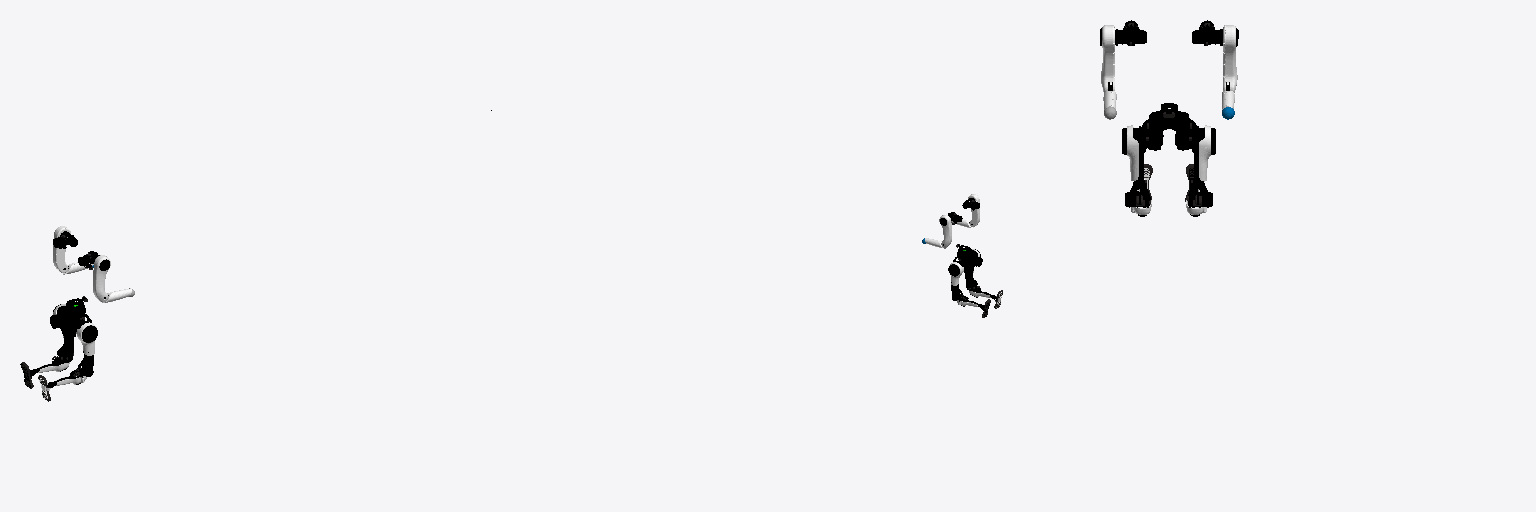
URDF robot description (WuKongIV):
<?xml version="1.0" encoding="utf-8"?>
<robot name="WuKongIV">
  <link name="SACRUM">
    <inertial>
      <mass value="0" />
      <inertia ixx="0" ixy="0" ixz="0" iyy="0" iyz="0" izz="0" />
    </inertial>
    <visual>
      <geometry>
        <mesh filename="../meshes_dae/SACRUM.dae" />
      </geometry>
    </visual>
  </link>

  <link name="BASE_INER">
    <inertial>
      <origin xyz="0.00096078 -2.1928E-05 -0.025162" />
      <mass value="3.2422" />
      <inertia ixx="0.01008488" ixy="-8.7E-07" ixz="-0.00016364" iyy="0.00548956" iyz="-2.8E-07" izz="0.00997073" />
    </inertial>
  </link>

  <joint name="Base2Iner" type="fixed">
    <parent link="SACRUM" />
    <child link="BASE_INER" />
  </joint>

  <link name="TORSO">
    <inertial>
      <origin xyz="0.002727 0.00010666 0.18215" />
      <mass value="14.544" />
      <inertia ixx="0.44797196" ixy="-0.00008178" ixz="-0.00554868" iyy="0.34075748" iyz="0.00021549" izz="0.17876604" />
    </inertial>
    <visual>
      <geometry>
        <mesh filename="../meshes_dae/TORSO.dae" />
      </geometry>
    </visual>
    <collision>
      <origin xyz="0 0 0.15" />
      <geometry>
        <box size="0.2 0.31 0.48"/>
      </geometry>
    </collision>
  </link>

  <joint name="Waist" type="revolute">
    <origin xyz="0.00010001 0 0.03751" />
    <parent link="SACRUM" />
    <child link="TORSO" />
    <axis xyz="0 0 1" />
    <limit lower="-0.698" upper="0.698" effort="84" velocity="7.85" />
    <dynamics damping="0" friction="0" />
  </joint>

  <link name="SCAPULA_R">
    <inertial>
      <origin xyz="-0.017297 -0.00031922 -0.0027747" />
      <mass value="1.0094" />
      <inertia ixx="0.00072781" ixy="0.00000511" ixz="0.00004844" iyy="0.00090651" iyz="0.0000138" izz="0.00084392" />
    </inertial>
    <visual>
      <geometry>
        <mesh filename="../meshes_dae/SCAPULA_R.dae" />
      </geometry>
    </visual>
  </link>

  <joint name="Shoulder_Z_R" type="revolute">
    <origin xyz="0 -0.1725 0.35275" />
    <parent link="TORSO" />
    <child link="SCAPULA_R" />
    <axis xyz="0 0 -1" />
    <limit lower="-0.366" upper="0.366" effort="100" velocity="4.1" />
    <dynamics damping="0" friction="0" />
  </joint>

  <link name="SHOULDER_R">
    <inertial>
      <origin xyz="-0.0030034 0.022918 0.00033814" />
      <mass value="0.95868" />
      <inertia ixx="0.00071081" ixy="-0.00006653" ixz="1.371E-06" iyy="0.00069481" iyz="0.00000687" izz="0.00077233" />
    </inertial>
    <visual>
      <geometry>
        <mesh filename="../meshes_dae/SHOULDER_R.dae" />
      </geometry>
    </visual>
  </link>

  <joint name="Shoulder_X_R" type="revolute">
    <origin xyz="0.05725 0 0" />
    <parent link="SCAPULA_R" />
    <child link="SHOULDER_R" />
    <axis xyz="-1 0 0" />
    <limit lower="-0.366" upper="0.366" effort="100" velocity="4.1" />
    <dynamics damping="0" friction="0" />
  </joint>

  <link name="UPPERARM_R">
    <inertial>
      <origin xyz="-0.0063123 0.020504 -0.048583" />
      <mass value="1.7239" />
      <inertia ixx="0.01622246" ixy="-0.00031829" ixz="-0.00100646" iyy="0.01499852" iyz="-0.00172217" izz="0.00352944" />
    </inertial>
    <visual>
      <geometry>
        <mesh filename="../meshes_dae/UPPERARM_R.dae" />
      </geometry>
    </visual>
    <collision>
      <origin xyz="-0.01 -0.005 -0.13" />
      <geometry>
        <box size="0.05 0.05 0.26" />
      </geometry>
    </collision> 
    <collision>
      <origin xyz="0 -0.01 0" rpy="1.57 0 0" />
      <geometry>
        <cylinder length="0.06" radius="0.05"/>
      </geometry>
    </collision> 
  </link>

  <joint name="Shoulder_Y_R" type="revolute">
    <origin xyz="0 -0.09525 0" />
    <parent link="SHOULDER_R" />
    <child link="UPPERARM_R" />
    <axis xyz="0 1 0" />
    <limit lower="-1.788" upper="0.714" effort="28" velocity="14.65" />
    <dynamics damping="0" friction="0" />
  </joint>

  <link name="FOREARM_R">
    <inertial>
      <origin xyz="0.10118 -0.00089188 -0.021779" />
      <mass value="0.37113" />
      <inertia ixx="0.00042911" ixy="0.00003147" ixz="0.00090579" iyy="0.00609032" iyz="-0.00000761" izz="0.00587061" />
    </inertial>
    <visual>
      <geometry>
        <mesh filename="../meshes_dae/FOREARM_R.dae" />
      </geometry>
    </visual>
  </link>

  <joint name="Elbow_R" type="revolute">
    <origin xyz="0 0 -0.25" />
    <parent link="UPPERARM_R" />
    <child link="FOREARM_R" />
    <axis xyz="0 1 0" />
    <limit lower="-1.274" upper="0.923" effort="28" velocity="14.65" />
    <dynamics damping="0" friction="0" />
  </joint>

  <link name="HAND_R">
    <inertial>
      <origin xyz="0.020883 0 -0.00068565" />
      <mass value="0.085665" />
      <inertia ixx="3.7989E-05" ixy="0" ixz="-2E-07" iyy="3.1765E-05" iyz="0" izz="3.1772E-05" />
    </inertial>
    <visual>
      <geometry>
        <sphere radius="0.03"/>
      </geometry>
      </visual>
    <collision>
      <origin xyz="0.01 0 0" />
      <geometry>
        <sphere radius="0.03"/>
      </geometry>
    </collision>
  </link>

  <joint name="Wrist_R" type="fixed">
    <origin xyz="0.22429 0 -0.0252" />
    <parent link="FOREARM_R" />
    <child link="HAND_R" />
    <dynamics damping="0" friction="0" />
  </joint>

  <link name="SCAPULA_L">
    <inertial>
      <origin xyz="-0.017301 0.00030058 -0.0027747" />
      <mass value="1.0094" />
      <inertia ixx="0.00072792" ixy="-5.71E-06" ixz="0.0000483" iyy="0.00090637" iyz="0.00001413" izz="0.0008439" />
    </inertial>
    <visual>
      <geometry>
        <mesh filename="../meshes_dae/SCAPULA_L.dae" />
      </geometry>
    </visual>
  </link>

  <joint name="Shoulder_Z_L" type="revolute">
    <origin xyz="0 0.1725 0.35275" />
    <parent link="TORSO" />
    <child link="SCAPULA_L" />
    <axis xyz="0 0 1" />
    <limit lower="-0.366" upper="0.366" effort="100" velocity="4.1" />
    <dynamics damping="0" friction="0" />
  </joint>

  <link name="SHOULDER_L">
    <inertial>
      <origin xyz="-0.0030034 -0.022922 0.00031317" />
      <mass value="0.95868" />
      <inertia ixx="0.00071064" ixy="0.00006639" ixz="0.00001402" iyy="0.00069483" iyz="-0.00000745" izz="0.00077215" />
    </inertial>
    <visual>
      <geometry>
        <mesh filename="../meshes_dae/SHOULDER_L.dae" />
      </geometry>
    </visual>
  </link>

  <joint name="Shoulder_X_L" type="revolute">
    <origin xyz="0.05725 0 0" />
    <parent link="SCAPULA_L" />
    <child link="SHOULDER_L" />
    <axis xyz="1 0 0" />
    <limit lower="-0.366" upper="0.366" effort="100" velocity="4.1" />
    <dynamics damping="0" friction="0" />
  </joint>

  <link name="UPPERARM_L">
    <inertial>
      <origin xyz="-0.0056932 -0.020527 -0.048691" />
      <mass value="1.7224" />
      <inertia ixx="0.01539894" ixy="-1.954E-05" ixz="-0.00132865" iyy="0.01452480" iyz="0.00199437" izz="0.00387488" />
    </inertial>
    <visual>
      <geometry>
        <mesh filename="../meshes_dae/UPPERARM_L.dae" />
      </geometry>
    </visual>
    <collision>
      <origin xyz="-0.01 0.005 -0.13" />
      <geometry>
        <box size="0.05 0.05 0.26" />
      </geometry>
    </collision> 
    <collision>
      <origin xyz="0 0.01 0" rpy="1.57 0 0" />
      <geometry>
        <cylinder length="0.06" radius="0.05"/>
      </geometry>
    </collision> 
  </link> 

  <joint name="Shoulder_Y_L" type="revolute">
    <origin xyz="0 0.09525 0" />
    <parent link="SHOULDER_L" />
    <child link="UPPERARM_L" />
    <axis xyz="0 1 0" />
    <limit lower="-1.788" upper="0.714" effort="28" velocity="14.65" />
    <dynamics damping="0" friction="0" />
  </joint>

  <link name="FOREARM_L">
    <inertial>
      <origin xyz="0.10119 0.00088935 -0.02178" />
      <mass value="0.37117" />
      <inertia ixx="0.00025279" ixy="0.00000211" ixz="8.779E-05" iyy="0.00211374" iyz="4.4E-07" izz="0.00206977" />
    </inertial>
    <visual>
      <geometry>
        <mesh filename="../meshes_dae/FOREARM_L.dae" />
      </geometry>
    </visual>
  </link>

  <joint name="Elbow_L" type="revolute">
    <origin xyz="0 0 -0.25" />
    <parent link="UPPERARM_L" />
    <child link="FOREARM_L" />
    <axis xyz="0 1 0" />
    <limit lower="-1.274" upper="0.923" effort="28" velocity="14.65" />
    <dynamics damping="0" friction="0" />
  </joint>

  <link name="HAND_L">
    <inertial>
      <origin xyz="0.021882 4.6532E-07 -0.00071846" />
      <mass value="0.085665" />
      <inertia ixx="3.7989E-05" ixy="0" ixz="-2E-07" iyy="3.1765E-05" iyz="0" izz="3.1772E-05" />
    </inertial>
    <visual>
      <geometry>
        <sphere radius="0.03"/>
      </geometry>
    </visual>
    <collision>
      <origin xyz="0.01 0 0" />
      <geometry>
        <sphere radius="0.03"/>
      </geometry>
    </collision>
  </link>

  <joint name="Wrist_L" type="fixed">
    <origin xyz="0.2243 0 -0.02505" />
    <parent link="FOREARM_L" />
    <child link="HAND_L" />
    <dynamics damping="0" friction="0" />
  </joint>

  <link name="ILIUM_R">
    <inertial>
      <origin xyz="-0.075151 -0.029746 0.011661" />
      <mass value="1.6695" />
      <inertia ixx="0.0031277" ixy="-0.00030585" ixz="-0.00138371" iyy="0.00641746" iyz="-0.00027709" izz="0.00540224" />
    </inertial>
    <visual>
      <geometry>
        <mesh filename="../meshes_dae/ILIUM_R.dae" />
      </geometry>
    </visual>
    <collision>
      <origin xyz="-0.129 -0.032 0" rpy="0 1.57 0" />
      <geometry>
        <cylinder length="0.02" radius="0.046"/>
      </geometry>
    </collision>
  </link>

  <joint name="Hip_Z_R" type="revolute">
    <origin xyz="0.00010001 -0.045 -0.15049" />
    <parent link="SACRUM" />
    <child link="ILIUM_R" />
    <axis xyz="0 0 -1" />
    <limit lower="-0.174" upper="0.174" effort="84" velocity="7.85" />
    <dynamics damping="0" friction="0" />
  </joint>

  <link name="ISCHIUM_R">
    <inertial>
      <origin xyz="-0.0061454 0.0083018 -0.00041435" />
      <mass value="1.489" />
      <inertia ixx="0.00123482" ixy="-8.78E-05" ixz="-0.00003823" iyy="0.00216773" iyz="-7.68E-06" izz="0.00170290" />
    </inertial>
    <visual>
      <geometry>
        <mesh filename="../meshes_dae/ISCHIUM_R.dae" />
      </geometry>
    </visual>
  </link>

  <joint name="Hip_X_R" type="revolute">
    <origin xyz="0 -0.0325 0" />
    <parent link="ILIUM_R" />
    <child link="ISCHIUM_R" />
    <axis xyz="-1 0 0" />
    <limit lower="-0.349" upper="0.349" effort="84" velocity="7.85" />
    <dynamics damping="0" friction="0" />
  </joint>

  <link name="THIGH_R">
    <inertial>
      <origin xyz="0.0047566 -0.027902 -0.039381" />
      <mass value="3.5319" />
      <inertia ixx="0.02861456" ixy="-0.00013987" ixz="0.00177396" iyy="0.02934292" iyz="0.00138919" izz="0.00585688" />
    </inertial>
    <visual>
      <geometry>
        <mesh filename="../meshes_dae/THIGH_R.dae" />
      </geometry>
    </visual>
    <collision>
      <origin xyz="0 -0.02 -0.132" />
      <geometry>
        <cylinder length="0.30" radius="0.05"/>
      </geometry>
    </collision>
    <collision>
      <origin xyz="0 -0.04 -0.01" rpy="1.57 0 0" />
      <geometry>
        <cylinder length="0.10" radius="0.066"/>
      </geometry>
    </collision>
  </link>

  <joint name="Hip_Y_R" type="revolute">
    <origin xyz="0 -0.0432 0" />
    <parent link="ISCHIUM_R" />
    <child link="THIGH_R" />
    <axis xyz="0 1 0" />
    <limit lower="-2.207" upper="0.462" effort="84" velocity="7.85" />
    <dynamics damping="0" friction="0" />
  </joint>

  <link name="SHANK_R">
    <inertial>
      <origin xyz="0.010628 -0.0095812 -0.051247" />
      <mass value="2.7397" />
      <inertia ixx="0.01492817" ixy="-0.00027923" ixz="0.00061306" iyy="0.01461087" iyz="0.00072764" izz="0.00321124" />
    </inertial>
    <visual>
      <geometry>
        <mesh filename="../meshes_dae/SHANK_R.dae" />
      </geometry>
    </visual>
    <collision>
      <origin xyz="0.02 0 -0.16" rpy="0 0.3 0" />
      <geometry>
        <cylinder length="0.18" radius="0.02"/>
      </geometry>
    </collision>
    <collision>
      <origin xyz="0.05 0 -0.04" rpy="0 1.57 0" />
      <geometry>
        <cylinder length="0.05" radius="0.036"/>
      </geometry>
    </collision>
    <collision>
      <origin xyz="0.05 0 -0.06" rpy="0 1.57 0" />
      <geometry>
        <cylinder length="0.05" radius="0.036"/>
      </geometry>
    </collision>
  </link>

  <joint name="Knee_R" type="revolute">
    <origin xyz="0 0 -0.3" />
    <parent link="THIGH_R" />
    <child link="SHANK_R" />
    <axis xyz="0 1 0" />
    <limit lower="0.071" upper="2.617" effort="180" velocity="12" />
    <dynamics damping="0" friction="0" />
  </joint>

  <link name="ASTRAGALUS_R">
    <inertial>
      <origin xyz="-0.014376 -3.454E-05 0.0057672" />
      <mass value="0.068615" />
      <inertia ixx="8.86E-06" ixy="-2E-08" ixz="5.49E-07" iyy="0.00002951" iyz="4E-08" izz="0.00002574" />
    </inertial>
    <visual>
      <geometry>
        <mesh filename="../meshes_dae/ASTRAGALUS.dae" />
      </geometry>
    </visual>
  </link>

  <joint name="Ankle_Y_R" type="revolute">
    <origin xyz="0 0 -0.3" />
    <parent link="SHANK_R" />
    <child link="ASTRAGALUS_R" />
    <axis xyz="0 1 0" />
    <limit lower="-1.134" upper="0.261" effort="28" velocity="14.65" />
    <dynamics damping="0" friction="0" />
  </joint>

  <link name="FOOT_R">
    <inertial>
      <origin xyz="-5.1084E-10 -0.0010736 -0.024732" />
      <mass value="0.23297" />
      <inertia ixx="0.00010981" ixy="-2.5096E-10" ixz="8.0022E-13" iyy="0.00058824" iyz="3.92E-06" izz="0.00065893" />
    </inertial>
    <visual>
      <geometry>
        <mesh filename="../meshes_dae/FOOT_R.dae" />
      </geometry>
    </visual>
  </link>

  <joint name="Ankle_X_R" type="revolute">
    <parent link="ASTRAGALUS_R" />
    <child link="FOOT_R" />
    <axis xyz="-1 0 0" />
    <limit lower="-0.222" upper="0.222" effort="28" velocity="14.65" />
    <dynamics damping="0" friction="0" />
  </joint>

  <link name="TIPTOE_R">
    <inertial>
      <origin xyz="0.001 0.001 -0.0052715" />
      <mass value="0.19293" />
      <inertia ixx="0.00012184" ixy="0" ixz="0" iyy="0.00079695" iyz="0" izz="0.00090791" />
    </inertial>
    <visual>
      <geometry>
        <mesh filename="../meshes_dae/TIPTOE.dae" />
      </geometry>
    </visual>
    <collision>
      <origin xyz="0 0 0.005"/>
      <geometry>
        <box size="0.18 0.08 0.01"/>
      </geometry>
    </collision>
  </link>

  <joint name="Tiptoe_Z_R" type="fixed">
    <origin xyz="0 0 -0.031" />
    <parent link="FOOT_R" />
    <child link="TIPTOE_R" />
  </joint>

  <link name="ILIUM_L">
    <inertial>
      <origin xyz="-0.075166 0.029681 0.011765" />
      <mass value="1.6675" />
      <inertia ixx="0.00312613" ixy="0.0003" ixz="-0.0013813" iyy="0.00641573" iyz="0.00027496" izz="0.00540253" />
    </inertial>
    <visual>
      <geometry>
        <mesh filename="../meshes_dae/ILIUM_L.dae" />
      </geometry>
    </visual>
    <collision>
      <origin xyz="-0.129 0.032 0" rpy="0 1.57 0" />
      <geometry>
        <cylinder length="0.02" radius="0.046"/>
      </geometry>
    </collision>
  </link>

  <joint name="Hip_Z_L" type="revolute">
    <origin xyz="0.00010001 0.045 -0.15049" />
    <parent link="SACRUM" />
    <child link="ILIUM_L" />
    <axis xyz="0 0 1" />
    <limit lower="-0.174" upper="0.174" effort="84" velocity="7.85" />
    <dynamics damping="0" friction="0" />
  </joint>

  <link name="ISCHIUM_L">
    <inertial>
      <origin xyz="-0.0061396 -0.0083018 -0.00049822" />
      <mass value="1.489" />
      <inertia ixx="0.00123473" ixy="0.00008691" ixz="-0.00003659" iyy="0.00216555" iyz="0.00000356" izz="0.00170081" />
    </inertial>
    <visual>
      <geometry>
        <mesh filename="../meshes_dae/ISCHIUM_L.dae" />
      </geometry>
    </visual>
  </link>

  <joint name="Hip_X_L" type="revolute">
    <origin xyz="0 0.0325 0" />
    <parent link="ILIUM_L" />
    <child link="ISCHIUM_L" />
    <axis xyz="1 0 0" />
    <limit lower="-0.349" upper="0.349" effort="84" velocity="7.85" />
    <dynamics damping="0" friction="0" />
  </joint>

  <link name="THIGH_L">
    <inertial>
      <origin xyz="0.0048204 0.029872 -0.039658" />
      <mass value="3.5416" />
      <inertia ixx="0.02873630" ixy="0.00014184" ixz="0.00179307" iyy="0.02945913" iyz="-0.00141552" izz="0.00587297" />
    </inertial>
    <visual>
      <geometry>
        <mesh filename="../meshes_dae/THIGH_L.dae" />
      </geometry>
    </visual>
    <collision>
      <origin xyz="0 0.02 -0.132" />
      <geometry>
        <cylinder length="0.30" radius="0.05"/>
      </geometry>
    </collision>
    <collision>
      <origin xyz="0 0.04 -0.01" rpy="1.57 0 0" />
      <geometry>
        <cylinder length="0.10" radius="0.066"/>
      </geometry>
    </collision>
  </link>

  <joint name="Hip_Y_L" type="revolute">
    <origin xyz="0 0.0412 0" />
    <parent link="ISCHIUM_L" />
    <child link="THIGH_L" />
    <axis xyz="0 1 0" />
    <limit lower="-2.207" upper="0.462" effort="84" velocity="7.85" />
    <dynamics damping="0" friction="0" />
  </joint>

  <link name="SHANK_L">
    <inertial>
      <origin xyz="0.010866 0.0095055 -0.052181" />
      <mass value="2.7463" />
      <inertia ixx="0.01498291" ixy="0.0002868" ixz="0.00062657" iyy="0.01462625" iyz="-0.00072343" izz="0.00332056" />
    </inertial>
    <visual>
      <geometry>
        <mesh filename="../meshes_dae/SHANK_L.dae" />
      </geometry>
    </visual>
    <collision>
      <origin xyz="0.02 0 -0.16" rpy="0 0.3 0" />
      <geometry>
        <cylinder length="0.18" radius="0.02"/>
      </geometry>
    </collision>
    <collision>
      <origin xyz="0.05 0 -0.04" rpy="0 1.57 0" />
      <geometry>
        <cylinder length="0.05" radius="0.036"/>
      </geometry>
    </collision>
    <collision>
      <origin xyz="0.05 0 -0.06" rpy="0 1.57 0" />
      <geometry>
        <cylinder length="0.05" radius="0.036"/>
      </geometry>
    </collision>
  </link>

  <joint name="Knee_L" type="revolute">
    <origin xyz="0 0 -0.3" />
    <parent link="THIGH_L" />
    <child link="SHANK_L" />
    <axis xyz="0 1 0" />
    <limit lower="0.071" upper="2.617" effort="180" velocity="12" />
    <dynamics damping="0" friction="0" />
  </joint>

  <link name="ASTRAGALUS_L">
    <inertial>
      <origin xyz="-0.014376 -3.4496E-05 0.0057671" />
      <mass value="0.068615" />
      <inertia ixx="8.86E-06" ixy="-2E-08" ixz="5.49E-06" iyy="0.00002951" iyz="4E-08" izz="0.00002574" />
    </inertial>
    <visual>
      <geometry>
        <mesh filename="../meshes_dae/ASTRAGALUS.dae" />
      </geometry>
    </visual>
  </link>

  <joint name="Ankle_Y_L" type="revolute">
    <origin xyz="0 0 -0.3" />
    <parent link="SHANK_L" />
    <child link="ASTRAGALUS_L" />
    <axis xyz="0 1 0" />
    <limit lower="-1.134" upper="0.261" effort="28" velocity="14.65" />
    <dynamics damping="0" friction="0" />
  </joint>

  <link name="FOOT_L">
    <inertial>
      <origin xyz="1.1755E-08 0.0010736 -0.024732" />
      <mass value="0.23297" />
      <inertia ixx="0.00010981" ixy="-2.5096E-10" ixz="-8.0022E-13" iyy="0.00058824" iyz="-3.9216E-06" izz="0.00065893" />
    </inertial>
    <visual>
      <geometry>
        <mesh filename="../meshes_dae/FOOT_L.dae" />
      </geometry>
    </visual>
  </link>

  <joint name="Ankle_X_L" type="revolute">
    <parent link="ASTRAGALUS_L" />
    <child link="FOOT_L" />
    <axis xyz="1 0 0" />
    <limit lower="-0.222" upper="0.222" effort="28" velocity="14.65" />
    <dynamics damping="0" friction="0" />
  </joint>

  <link name="TIPTOE_L">
    <inertial>
      <origin xyz="0 0 -0.0052715" />
      <mass value="0.19293" />
      <inertia ixx="0.00012184" ixy="0" ixz="0" iyy="0.00079695" iyz="0" izz="0.00090791" />
    </inertial>
    <visual>
      <geometry>
        <mesh filename="../meshes_dae/TIPTOE.dae" />
      </geometry>
    </visual>
    <collision>
      <origin xyz="0 0 0.005"/>
      <geometry>
        <box size="0.18 0.08 0.01"/>
      </geometry>
    </collision>
  </link>

  <joint name="Tiptoe_Z_L" type="fixed">
    <origin xyz="0 0 -0.031" />
    <parent link="FOOT_L" />
    <child link="TIPTOE_L" />
  </joint>
</robot>

--- What the picture shows (computed from the rendered views, not written in the file) ---
3 views of the same robot in one strip: view 1: azimuth 30°, elevation 25°; view 2: azimuth 150°, elevation 25°; view 3: azimuth 270°, elevation 25° (orthographic).
Model WuKongIV with 27 links and 26 joints (21 revolute, 5 fixed), rooted at SACRUM, posed joints at zero except 2 at the middle of their limits (Knee_R = 1.34, Knee_L = 1.34).
Visible links, largest first — view 1: THIGH_R, UPPERARM_R; view 2: none; view 3: THIGH_R, THIGH_L, UPPERARM_L, UPPERARM_R, SACRUM.
Link boxes in pixels (x1,y1,x2,y2): THIGH_R: [76, 320, 97, 376]; UPPERARM_R: [92, 254, 110, 301]; THIGH_R: [1122, 125, 1148, 207]; THIGH_L: [1189, 125, 1215, 207]; UPPERARM_L: [1206, 25, 1238, 92]; UPPERARM_R: [1100, 25, 1131, 91]; SACRUM: [1147, 103, 1191, 130].
Bounding box of the posed robot: 4.39 × 1.64 × 1.06 m (x, y, z).
23 mesh visuals loaded from 22 distinct referenced files (21 Collada DAE); not drawn: 1 (reference not matched to a file when rendering).
